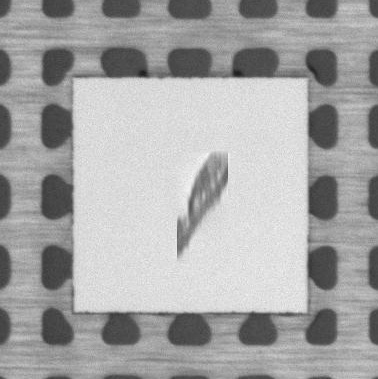DIE_INK: (172, 149, 231, 266)
